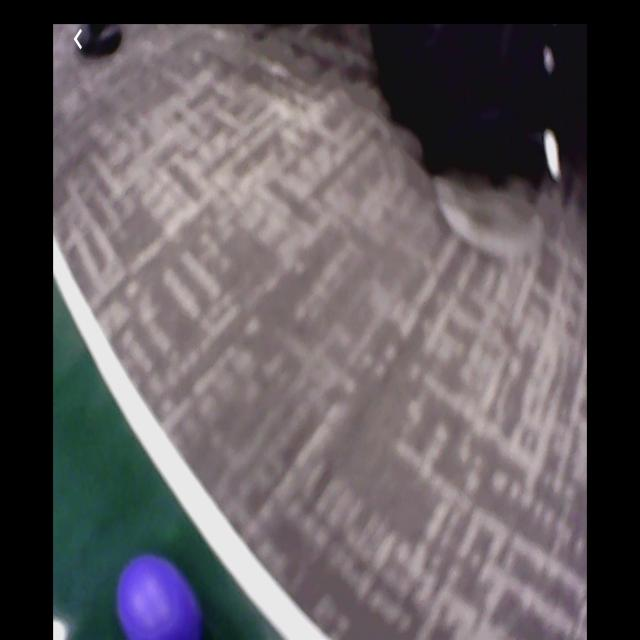ball: (118, 554, 201, 640)
